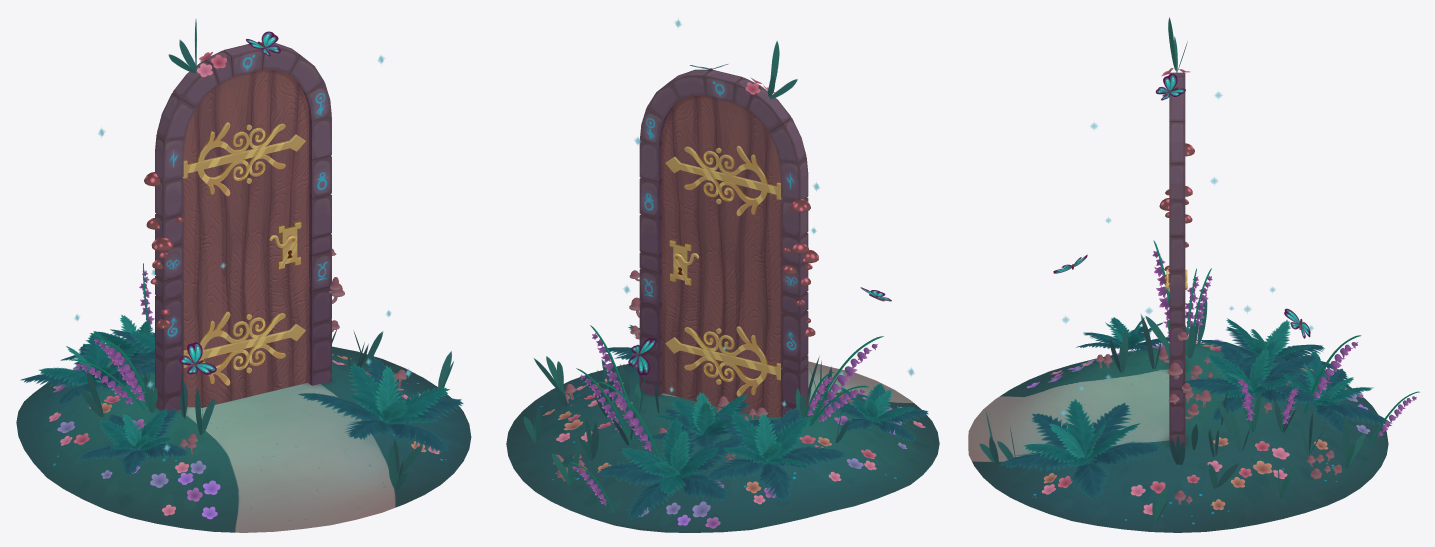
Rendered from fantasy door.glb.
The picture shows the model from 3 angles, left to right: view 1: azimuth 30°, elevation 25°; view 2: azimuth 150°, elevation 25°; view 3: azimuth 270°, elevation 25°; orthographic projection. The views are drawn at different scales.
Parts seen in each view (by area): view 1: pDisc1_Ground_tex_0, door, main_group2_detail_Detail_tex_0, door.001; view 2: door, main_group2_detail_Detail_tex_0, pDisc1_Ground_tex_0, door.001; view 3: pDisc1_Ground_tex_0, main_group2_detail_Detail_tex_0, door.001.
Boxes of the visible parts, box(x1,y1,x2,y2) form: pDisc1_Ground_tex_0: box(16, 346, 471, 532); door: box(182, 69, 309, 407); main_group2_detail_Detail_tex_0: box(20, 19, 463, 519); door.001: box(155, 42, 331, 411); door: box(662, 95, 781, 417); main_group2_detail_Detail_tex_0: box(523, 19, 928, 528); pDisc1_Ground_tex_0: box(506, 361, 939, 532); door.001: box(639, 69, 808, 417); pDisc1_Ground_tex_0: box(968, 343, 1388, 532); main_group2_detail_Detail_tex_0: box(979, 17, 1419, 522); door.001: box(1169, 72, 1185, 446).
Size of the model in its own units: 5.01 by 5.17 by 5.22.
3 materials, 3 textured.
